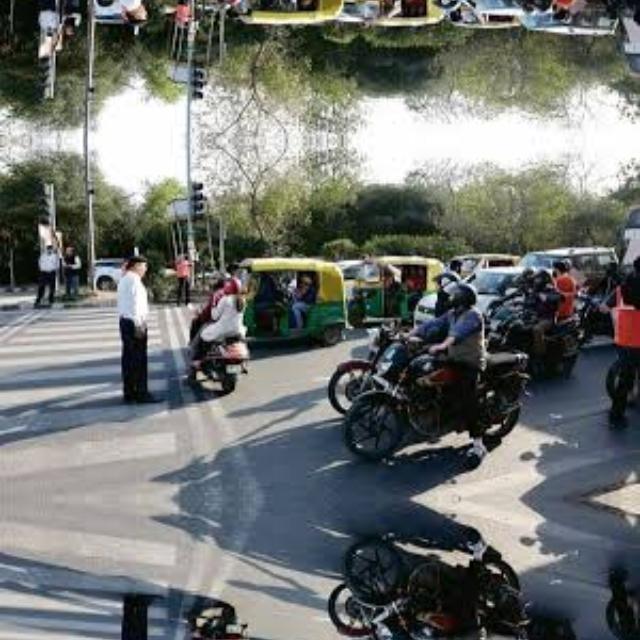person: (111, 248, 167, 410), (429, 274, 493, 376), (111, 586, 167, 640), (111, 0, 167, 32), (36, 237, 60, 309), (429, 621, 493, 640), (35, 0, 60, 43), (429, 0, 493, 5)
